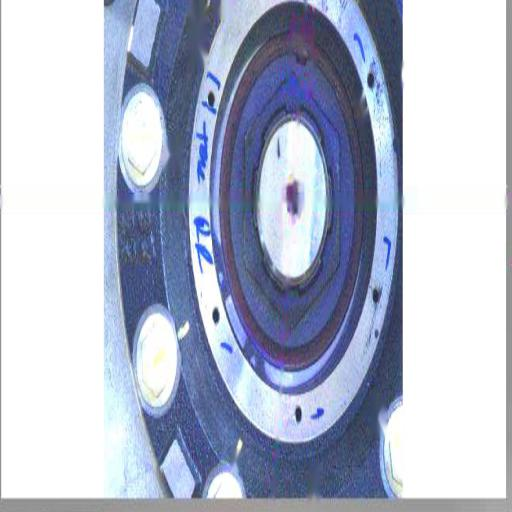center: (284, 178, 302, 222)
notch: (291, 45, 310, 77)
